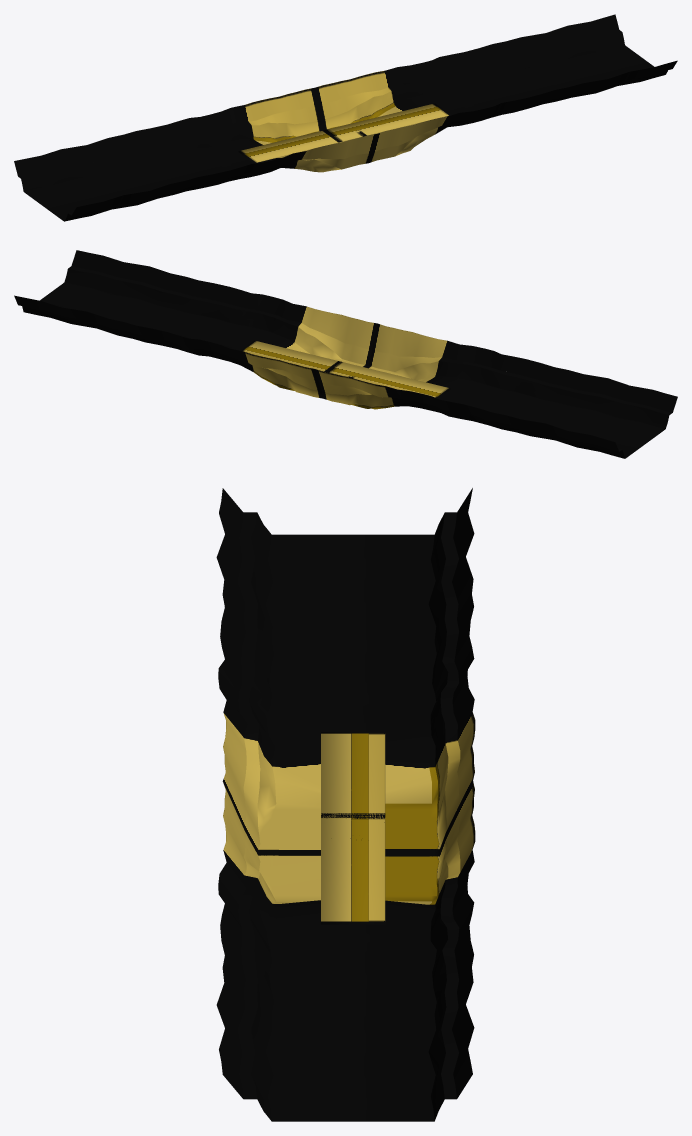
File: bridge_tile_cut.obj
The picture shows the model from 3 angles, top to bottom: view 1: azimuth 30°, elevation 25°; view 2: azimuth 150°, elevation 25°; view 3: azimuth 270°, elevation 25°; orthographic projection. The views are drawn at different scales.
Parts seen in each view (by area): view 1: Main001, Object005; view 2: Main001, Object005; view 3: Object005, Main001, Water.
Boxes of the visible parts, bbox=[...] form: Main001: bbox=[14, 14, 677, 221]; Object005: bbox=[18, 30, 654, 221]; Main001: bbox=[14, 250, 677, 458]; Object005: bbox=[40, 266, 672, 458]; Object005: bbox=[237, 512, 460, 1121]; Main001: bbox=[216, 488, 475, 1120]; Water: bbox=[271, 826, 437, 878].
Size of the model in its own units: 400 by 24.6 by 74.55.
